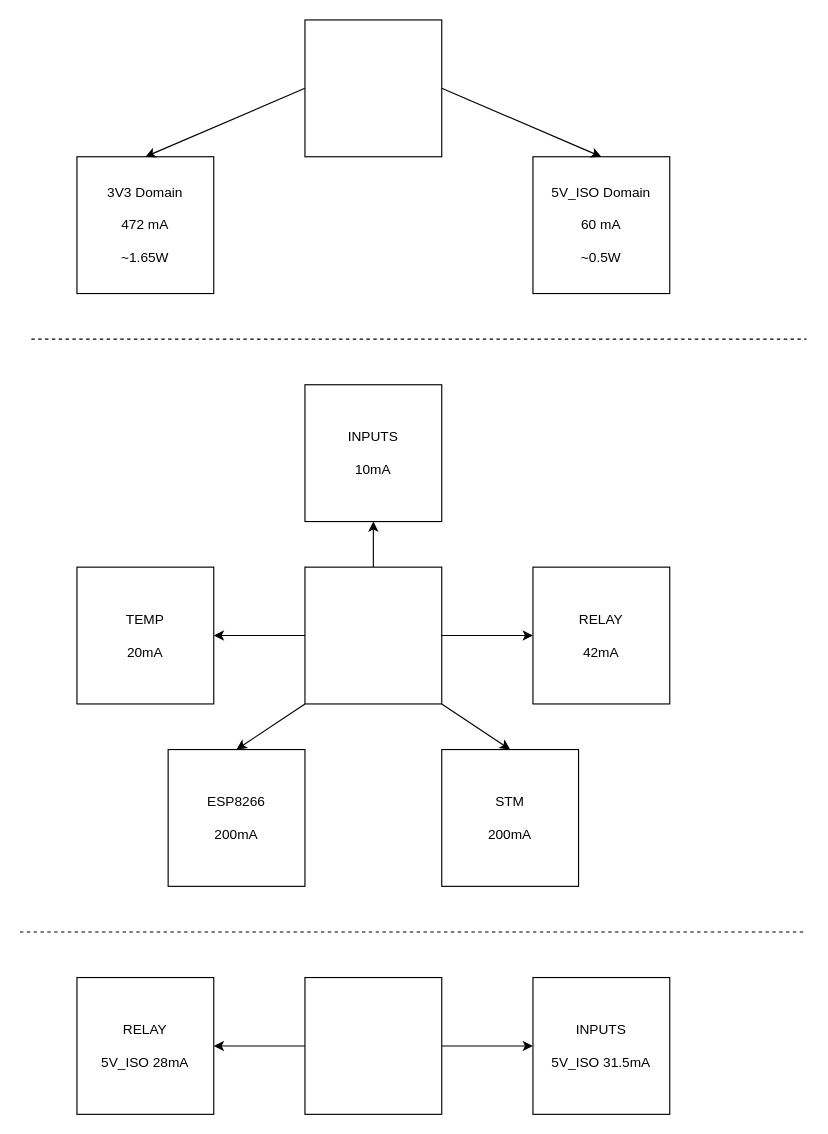
Image size: 828x1134. Some labels were removed from this diagram. Here are the shapes that lost their labels. From the top down, the centre of each, then its label:
At point (373, 88): "5V Domain ~2.2W 440 mA".
At point (373, 635): "3V3 Domain 472 mA".
At point (373, 1045): "5V_ISO Domain 60 mA".
